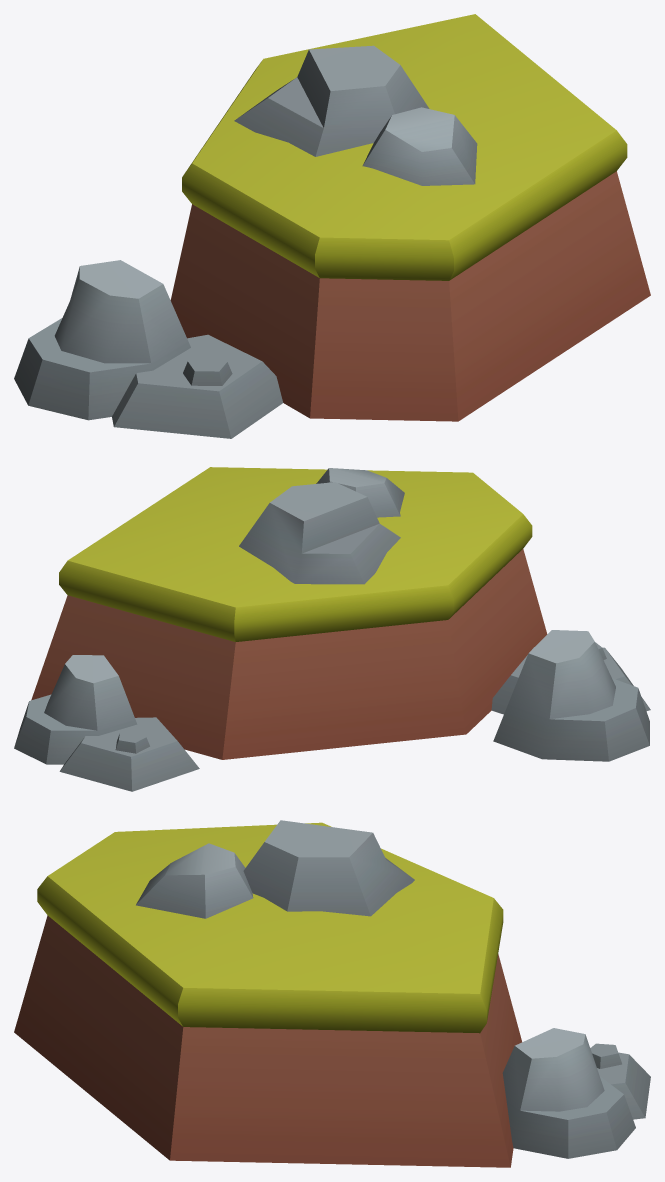
File: kaykit-medieval-hexagon-pack-hills-c.glb
3 views of the same model, one above another, from view 1: azimuth 30°, elevation 25°; view 2: azimuth 150°, elevation 25°; view 3: azimuth 270°, elevation 25° (orthographic). The views are drawn at different scales.
Visible parts, largest first — view 1: hills_C; view 2: hills_C; view 3: hills_C.
Part boxes in pixels (box(x1,y1,x2,y2)): hills_C: box(14, 14, 650, 438); hills_C: box(14, 467, 650, 791); hills_C: box(14, 820, 650, 1167).
Size of the model in its own units: 1.53 by 0.5547 by 1.47.
1 material, 1 textured.
